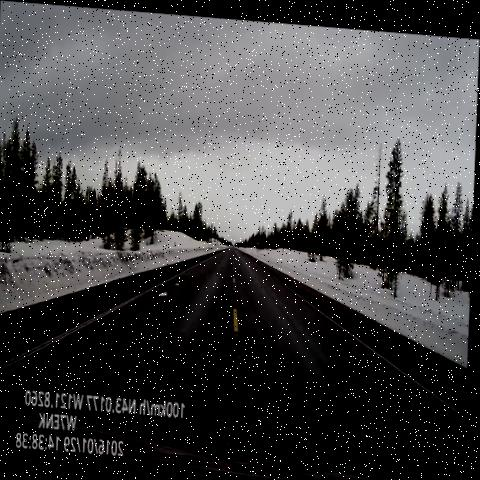pothole: (152, 264, 190, 306)
